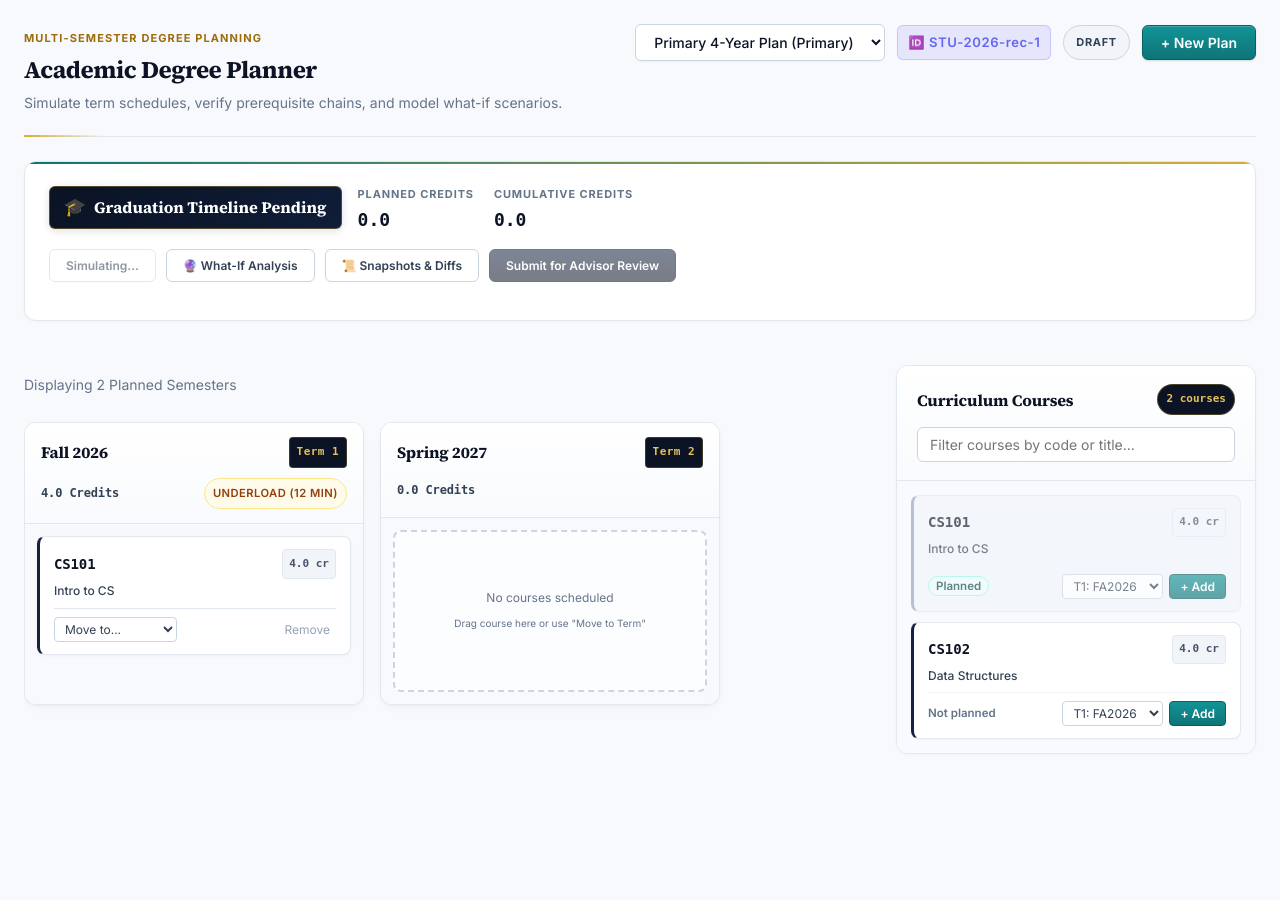
DegreePlannerPage Component › opens What-If modal and runs isolated simulation without record mutations
Click the button with test id "what-if-btn" at coordinates (240, 266), box [166,249,314,282]
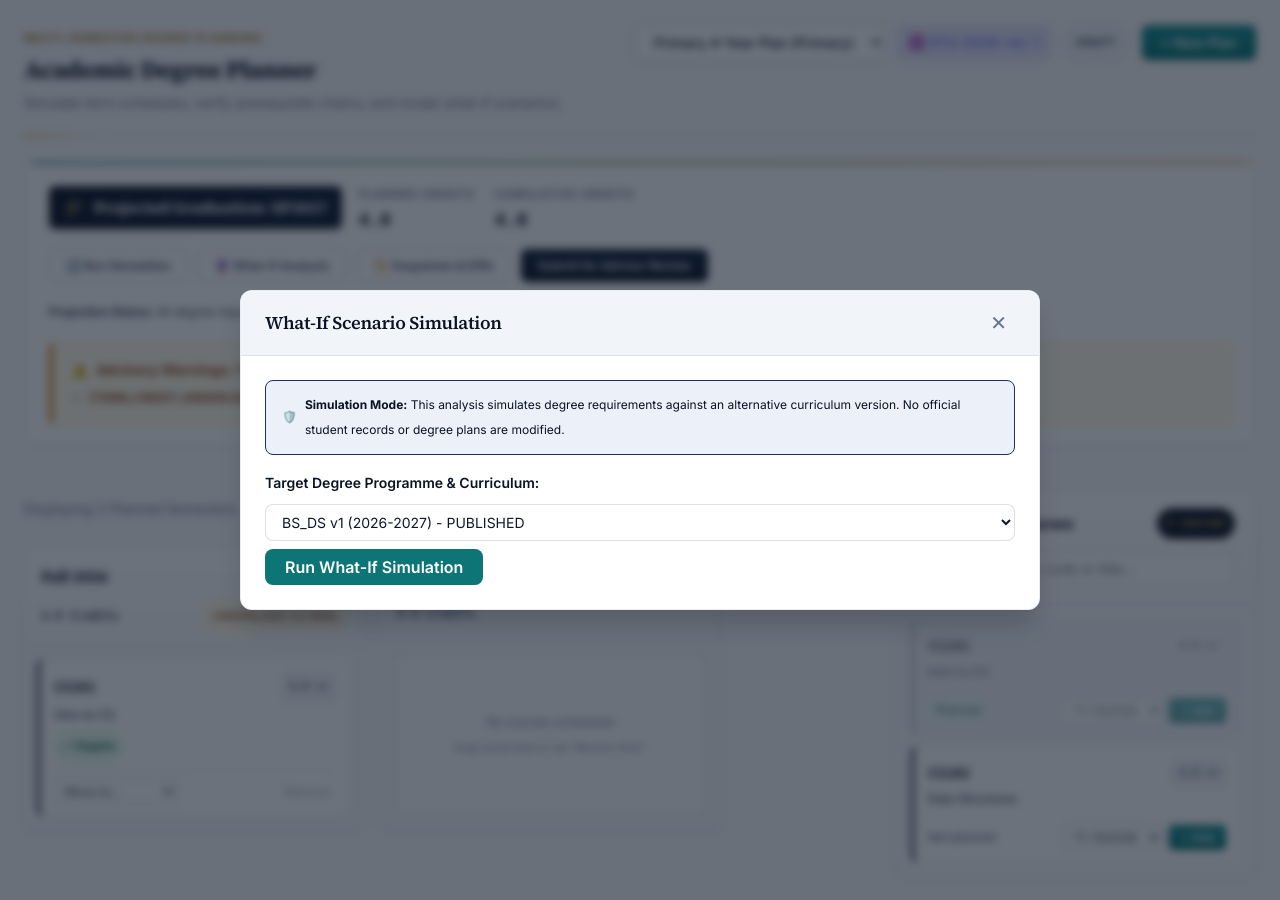
Check: the dialog with test id "what-if-modal" is shown
Click the button with test id "run-what-if-btn" at coordinates (374, 567), box [265,549,483,585]
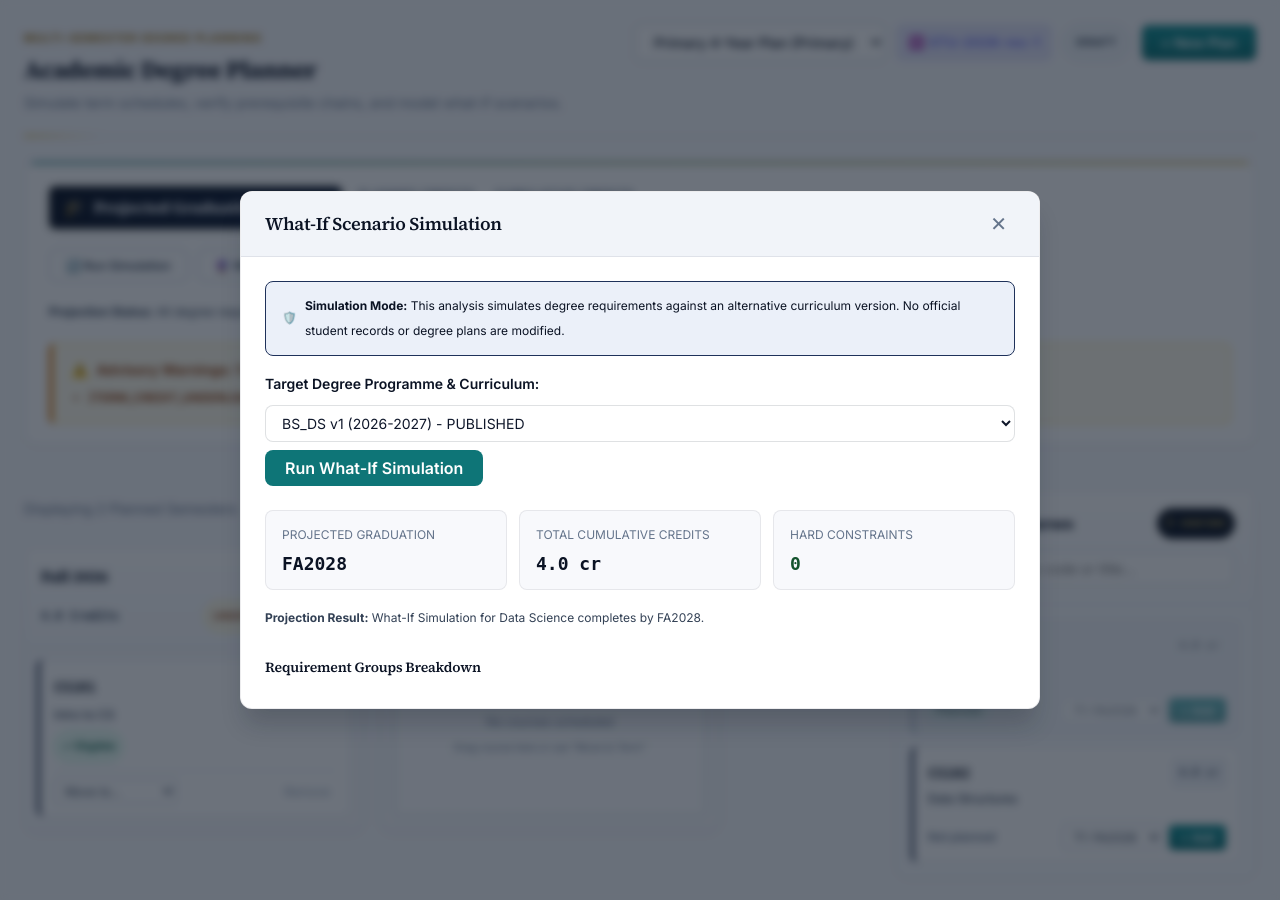
Check: the text with test id "what-if-grad-term" reads "FA2028", box [282,553,347,574]
